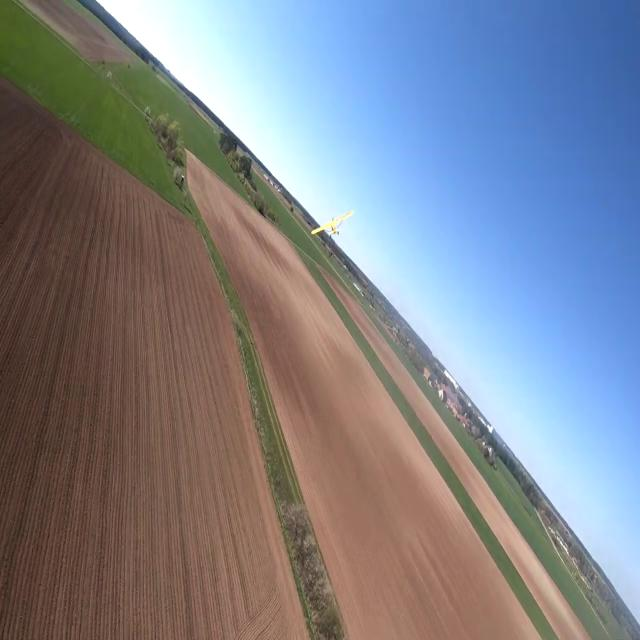iha: (302, 212, 347, 239)
